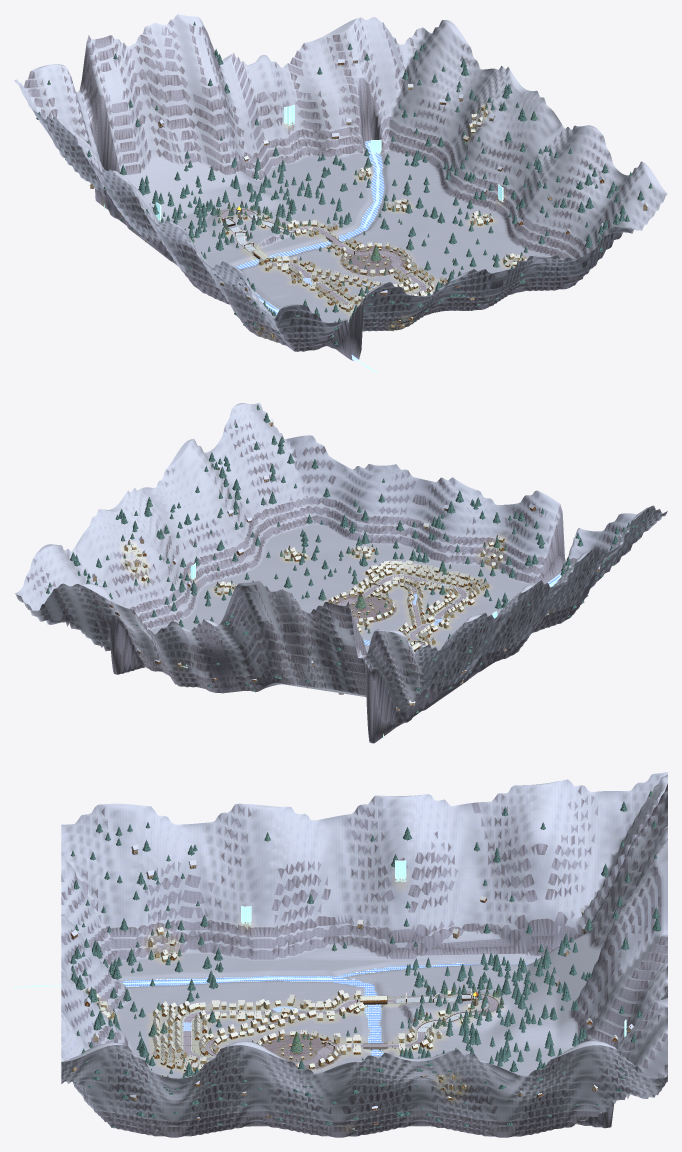
The picture shows the model from 3 angles, top to bottom: view 1: azimuth 30°, elevation 25°; view 2: azimuth 150°, elevation 25°; view 3: azimuth 270°, elevation 25°; orthographic projection. The views are drawn at different scales.
Visible parts, largest first — view 1: Land, Water visual 0 0, Village visual -2 -1, Forest visual -2 2, Forest visual -1 2, Village visual -1 -1, Village visual -2 0; view 2: Land, Village visual -1 -2, Village visual -2 -1, Village visual -1 -1, Pines visual -1 -3, Pines visual -2 -3, Pines visual 2 0, Village visual -2 -2; view 3: Land, Village visual -1 -2, Village visual -2 -1, Forest visual -1 2, Forest visual -2 2, Water visual 0 0, Village visual -2 0, Village visual -1 -1, Forest visual -3 2, Forest visual -2 1, Pines visual -4 -2, Pines visual -2 -3 (+4 smaller).
Part boxes in pixels (x1=…): Land: x1=14, y1=14, x2=667, y2=360; Water visual 0 0: x1=104, y1=104, x2=503, y2=373; Village visual -2 -1: x1=291, y1=268, x2=356, y2=305; Forest visual -2 2: x1=177, y1=190, x2=254, y2=228; Forest visual -1 2: x1=237, y1=179, x2=306, y2=219; Village visual -1 -1: x1=334, y1=261, x2=411, y2=289; Village visual -2 0: x1=259, y1=255, x2=322, y2=277; Land: x1=14, y1=402, x2=667, y2=743; Village visual -1 -2: x1=389, y1=560, x2=465, y2=592; Village visual -2 -1: x1=410, y1=593, x2=474, y2=628; Village visual -1 -1: x1=356, y1=580, x2=423, y2=615; Pines visual -1 -3: x1=428, y1=490, x2=500, y2=564; Pines visual -2 -3: x1=493, y1=508, x2=545, y2=578; Pines visual 2 0: x1=144, y1=502, x2=219, y2=595; Village visual -2 -2: x1=447, y1=573, x2=489, y2=599; Land: x1=61, y1=772, x2=667, y2=1137; Village visual -1 -2: x1=152, y1=1016, x2=217, y2=1058; Village visual -2 -1: x1=212, y1=994, x2=298, y2=1025; Forest visual -1 2: x1=460, y1=1007, x2=542, y2=1057; Forest visual -2 2: x1=461, y1=972, x2=537, y2=1017; Water visual 0 0: x1=14, y1=860, x2=626, y2=1129; Village visual -2 0: x1=297, y1=990, x2=378, y2=1020; Village visual -1 -1: x1=212, y1=1018, x2=295, y2=1056; Forest visual -3 2: x1=461, y1=952, x2=544, y2=982; Forest visual -2 1: x1=411, y1=980, x2=462, y2=1020; Pines visual -4 -2: x1=132, y1=822, x2=208, y2=945; Pines visual -2 -3: x1=70, y1=924, x2=131, y2=1008.
Bounding box in the file's own units: 1140 × 407 × 1272.
Materials: 40 (40 with a texture image).
